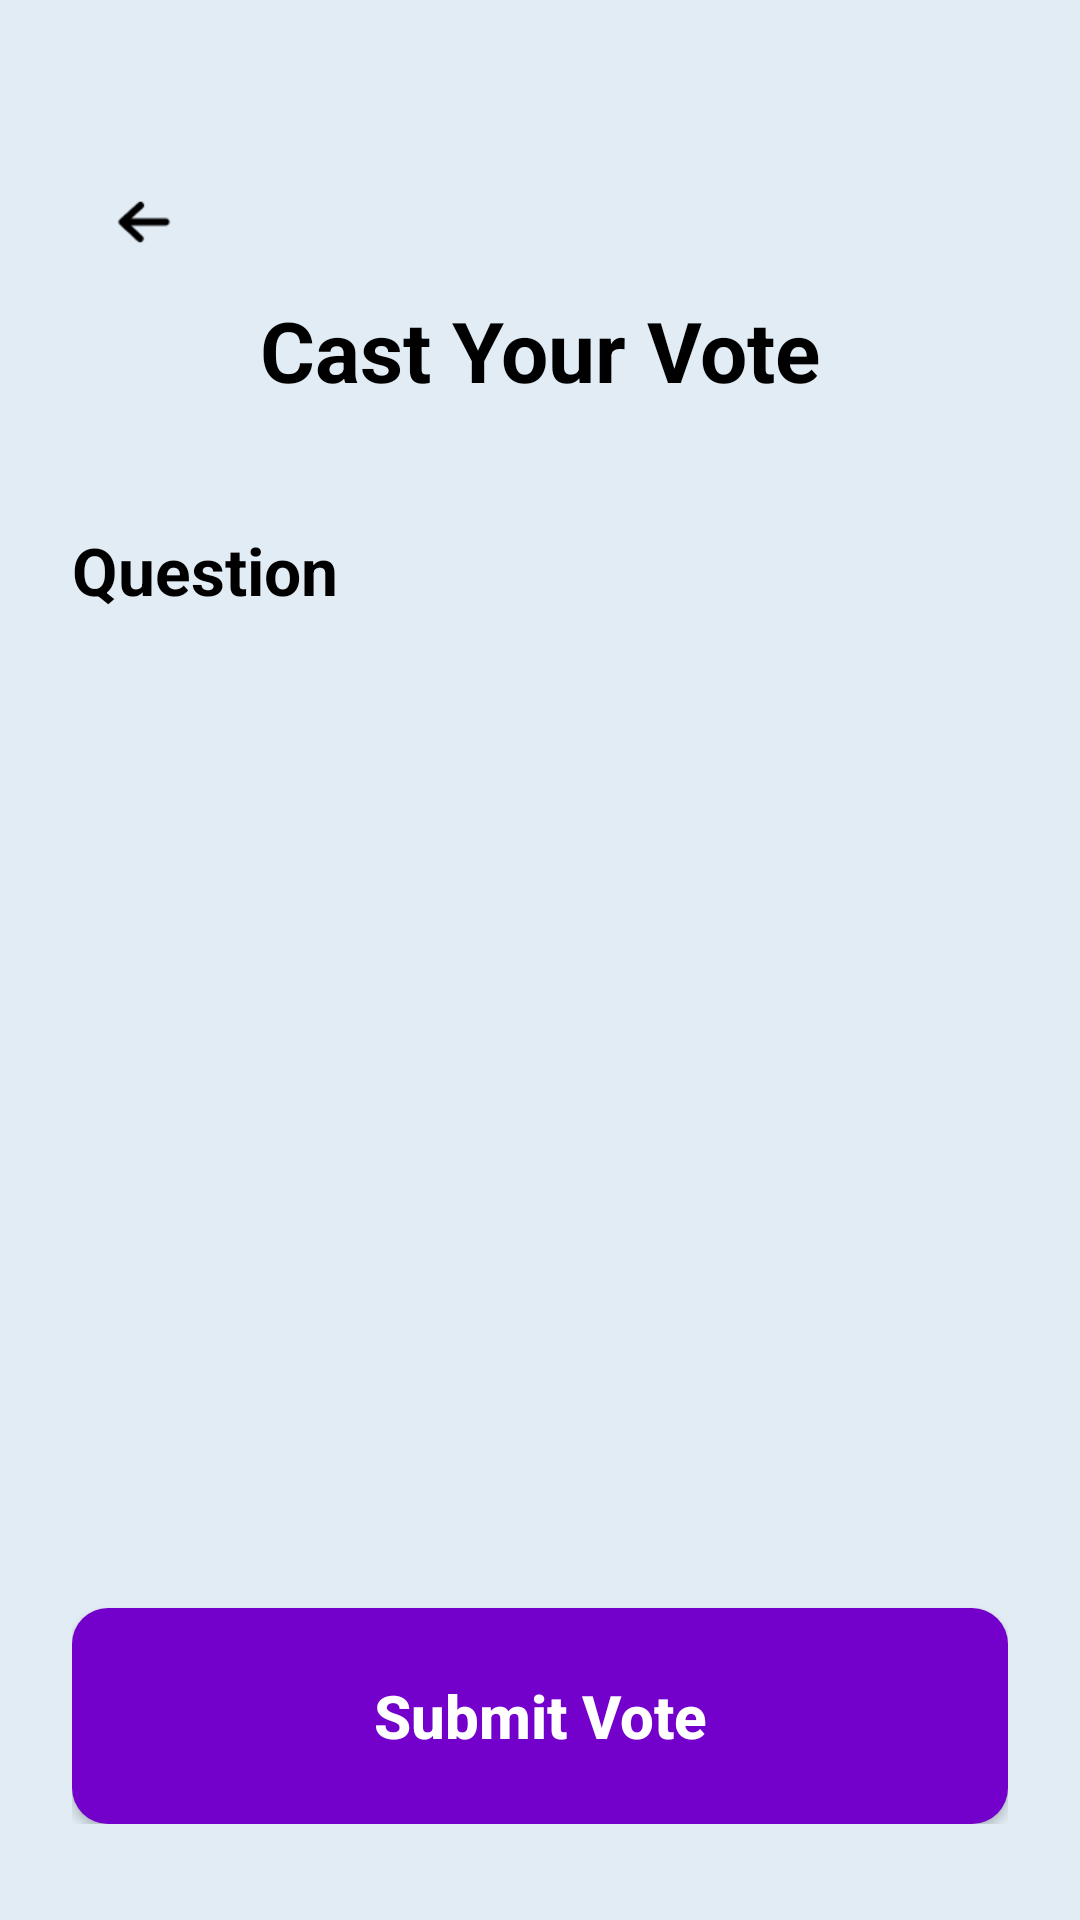

Icon bounding boxes for this 1080×1920 phone screenshot, format (x1, y1, x2, y2):
back arrow: (118, 201, 170, 243)
